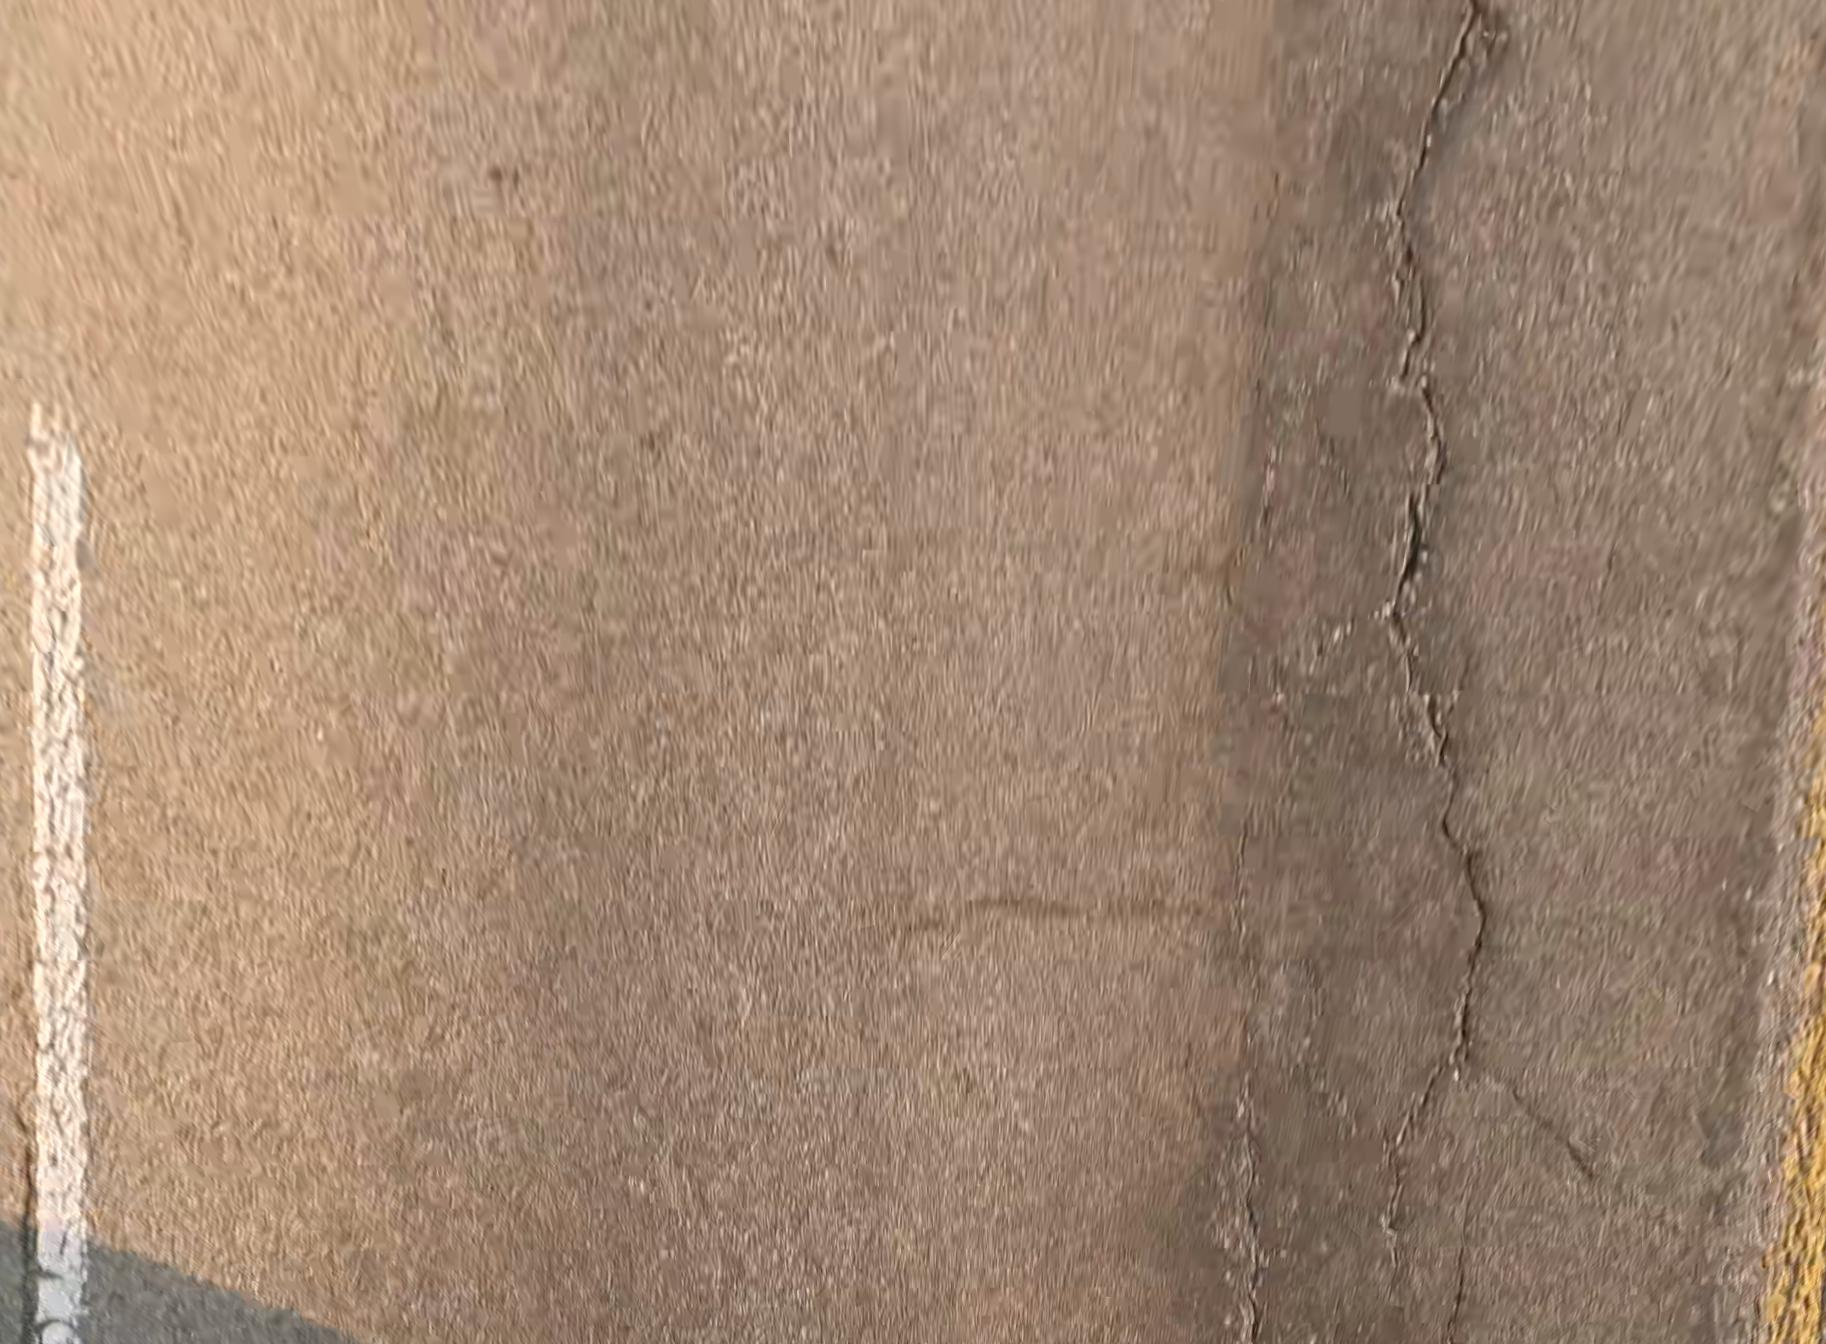pothole_patch_poor: (1201, 1, 1511, 1343)
